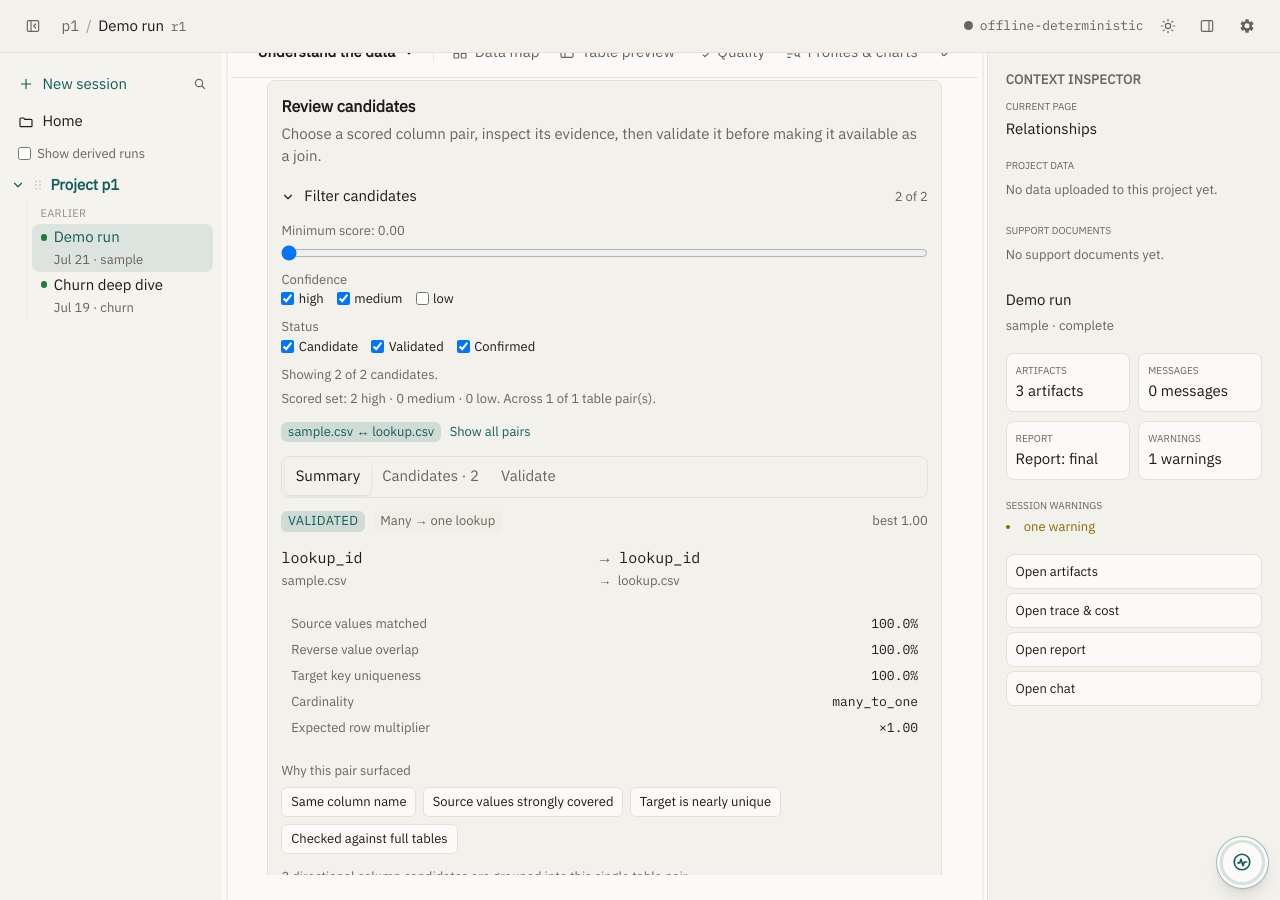
Test: Relationships page › shows pair-level explanation before column-level validation
The width and height of the screenshot is (1280, 900).
(page scrolled)
Expected: the text "Many → one lookup" is shown, [374,511,502,532]
Expected: the text "Why this pair surfaced" is shown, [282,762,411,779]
Click the button "Candidates · 2": click(431, 477) [371,459,490,494]
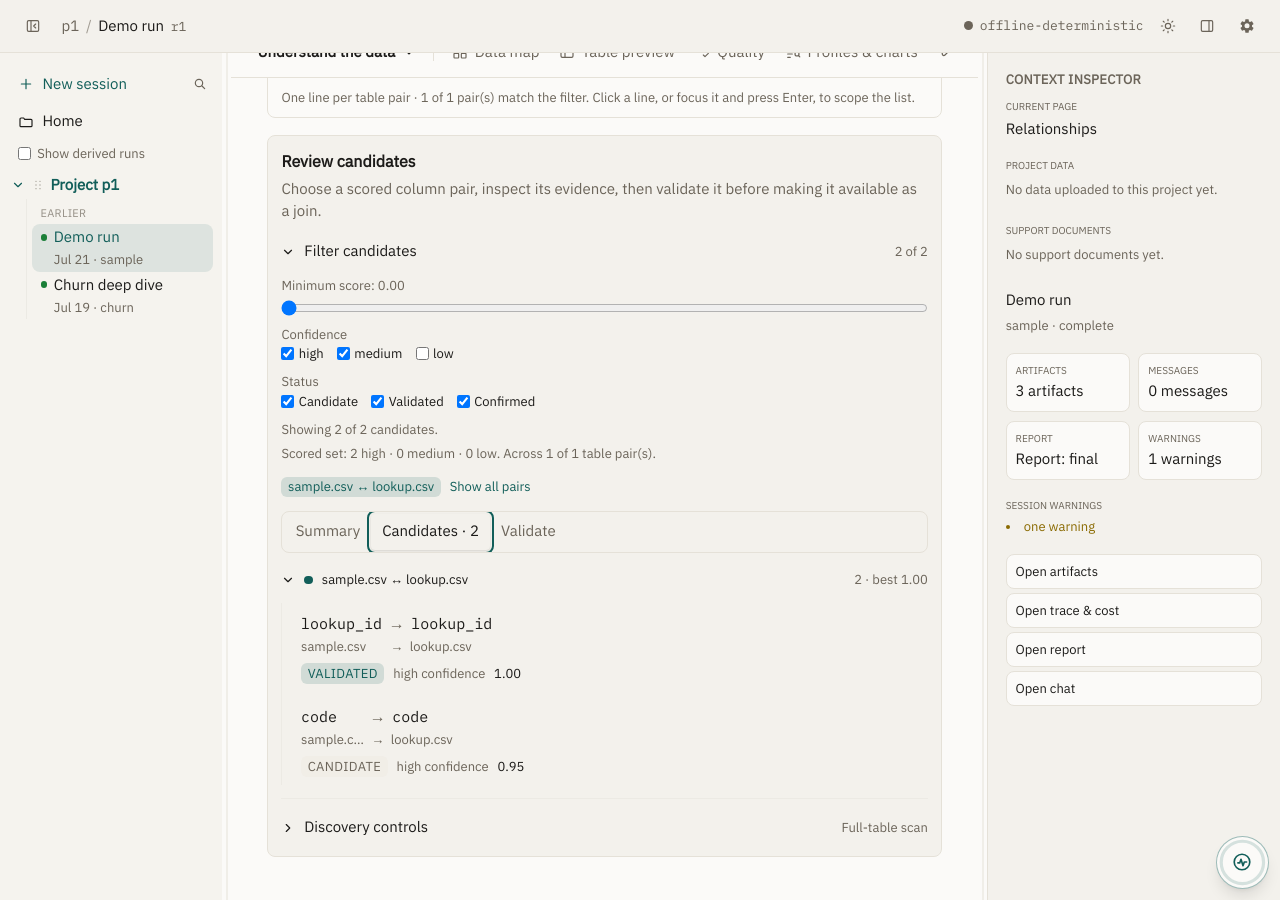
Now the button named "sample.csv.code → lookup.csv.code, high confidence, candidate" is shown, box [291,696,928,784]
